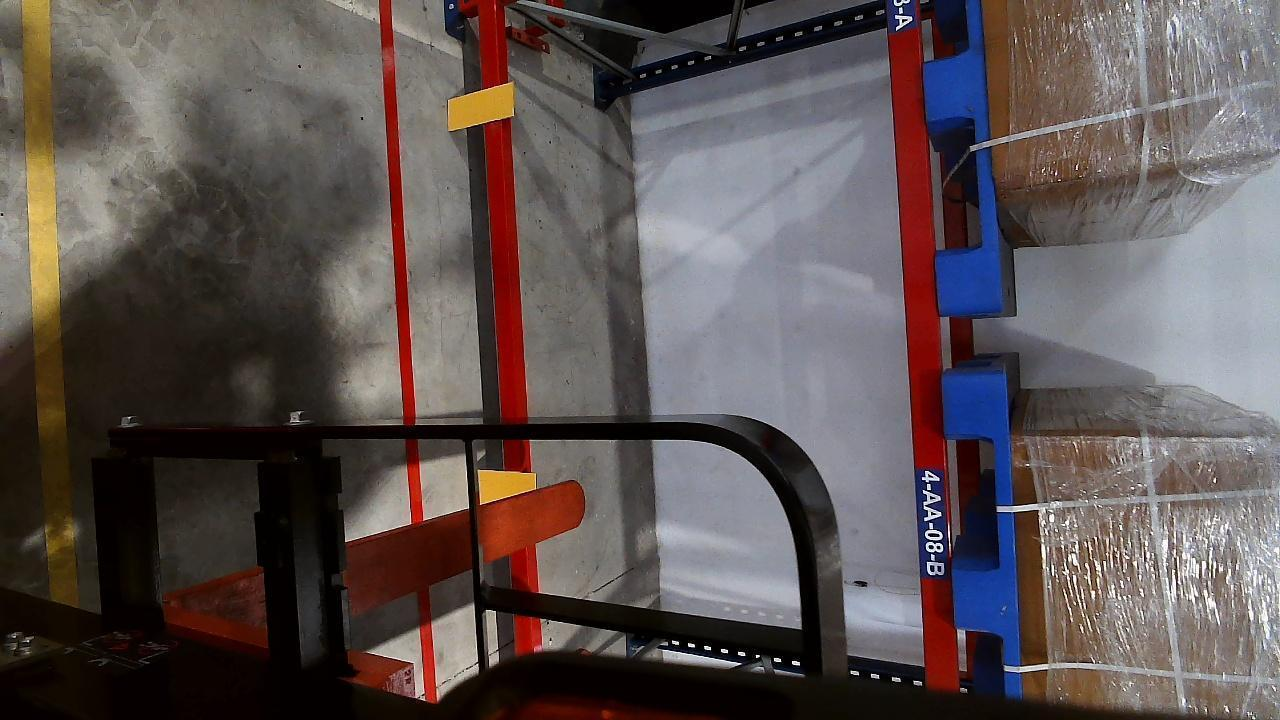red_line: (378, 0, 422, 522)
yellow_line: (18, 0, 75, 598)
